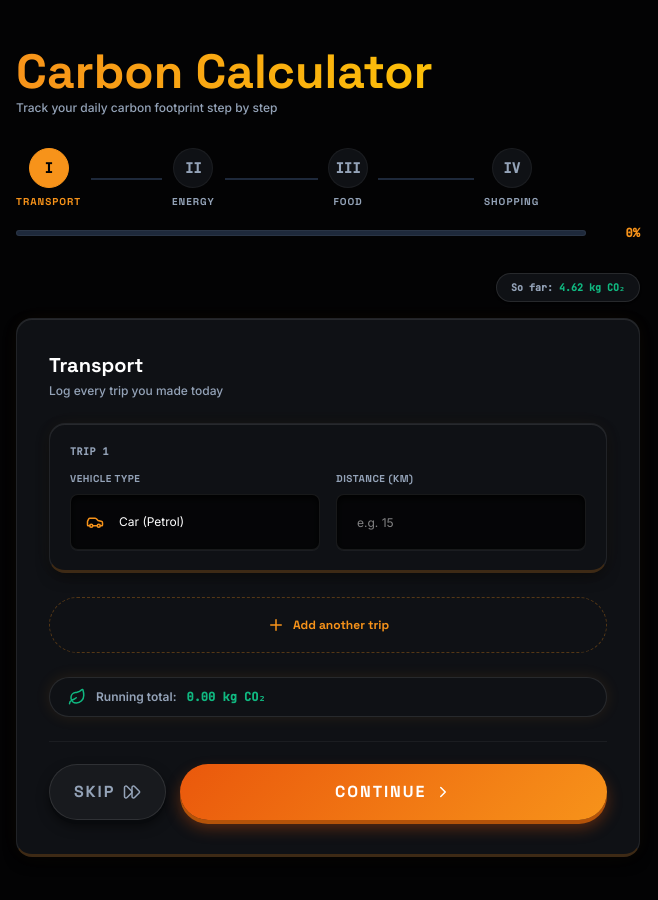
Calculator Component › renders step 1 (Transport) initially and can navigate between steps
Expected: the heading "Transport" is shown, [49,352,144,378]
// Fill distance km
Step 1. Type "10" into the number field labelled "Distance (km)" → (461, 522), box [336,494,586,550]
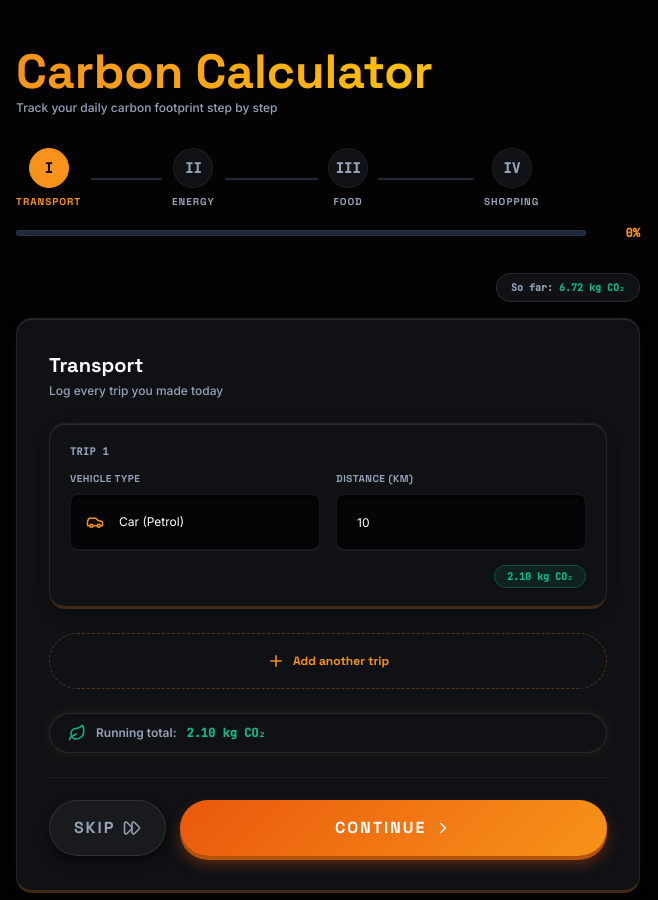
// Click Continue
Step 2. Click the button "Continue" → (394, 828), box [180,800,607,856]
(page scrolled)
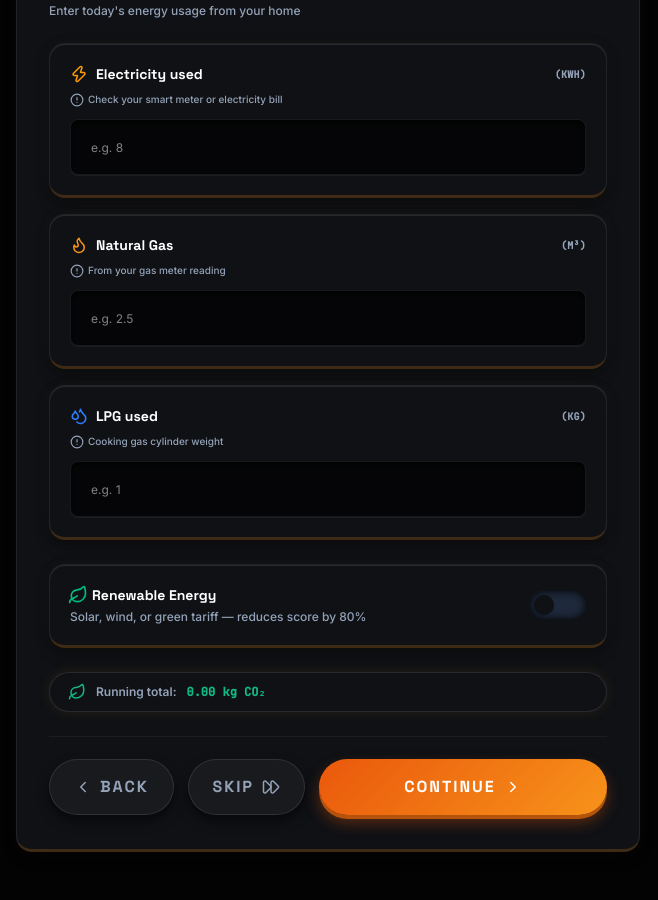
// Click Back
Step 3. Click the button "Back" → (111, 787), box [49,759,174,815]
(page scrolled)
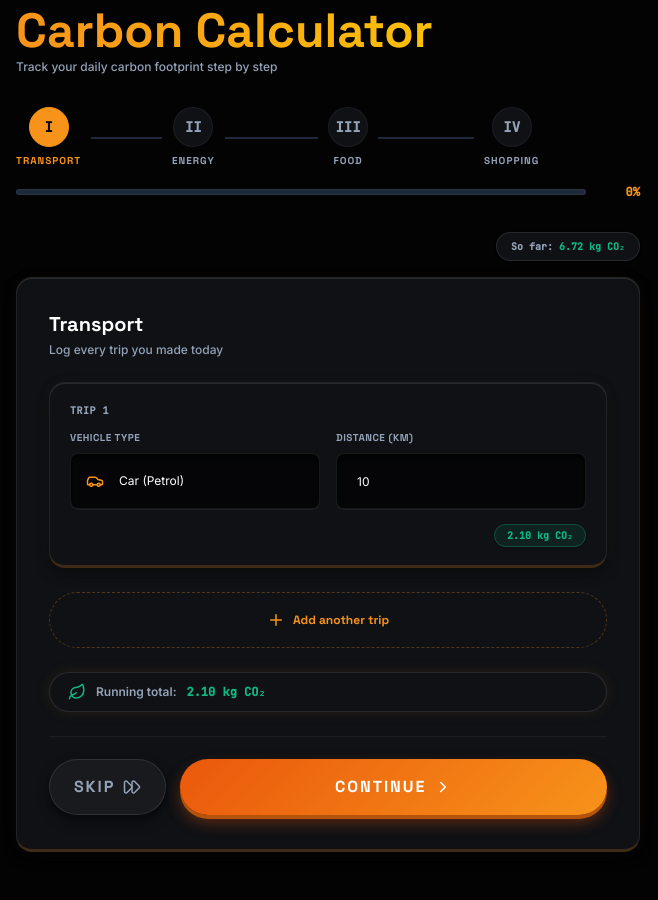
Expected: the heading "Transport" is shown, [49,311,144,337]
